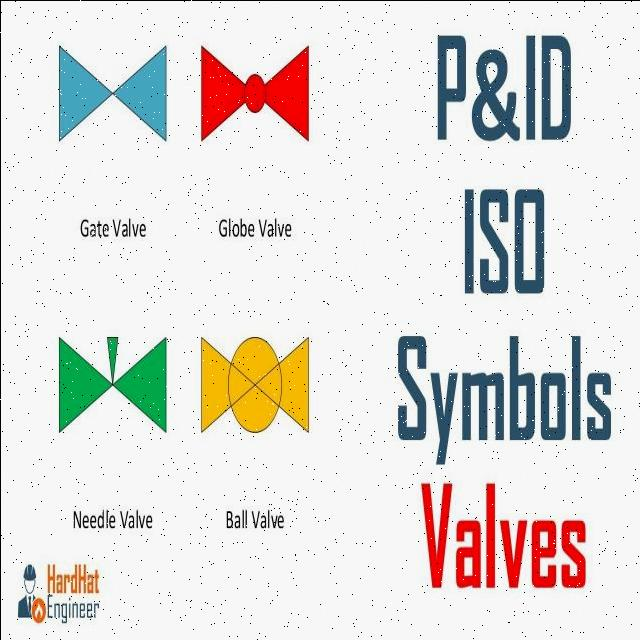Ball Valve: (196, 294, 326, 473)
Gate Valve: (40, 10, 182, 178)
Globe Valve: (188, 19, 335, 182)
Needle Valve: (41, 304, 170, 452)
